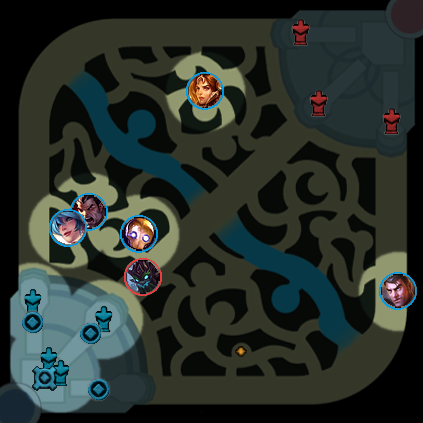Blitzcrank: (120, 215, 158, 253)
Darius: (70, 193, 108, 231)
Jayce: (379, 272, 417, 310)
Leona: (186, 72, 224, 110)
Maokai: (124, 258, 162, 296)
Sona: (49, 209, 87, 247)
